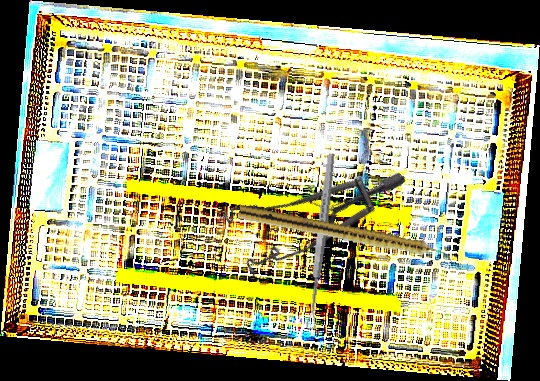Handpiece: (237, 204, 455, 265)
Speculum: (205, 103, 407, 311)
Surgical Spoon: (304, 151, 337, 332)
